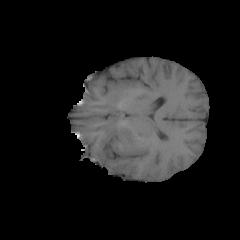glioma: (92, 120, 151, 173)
